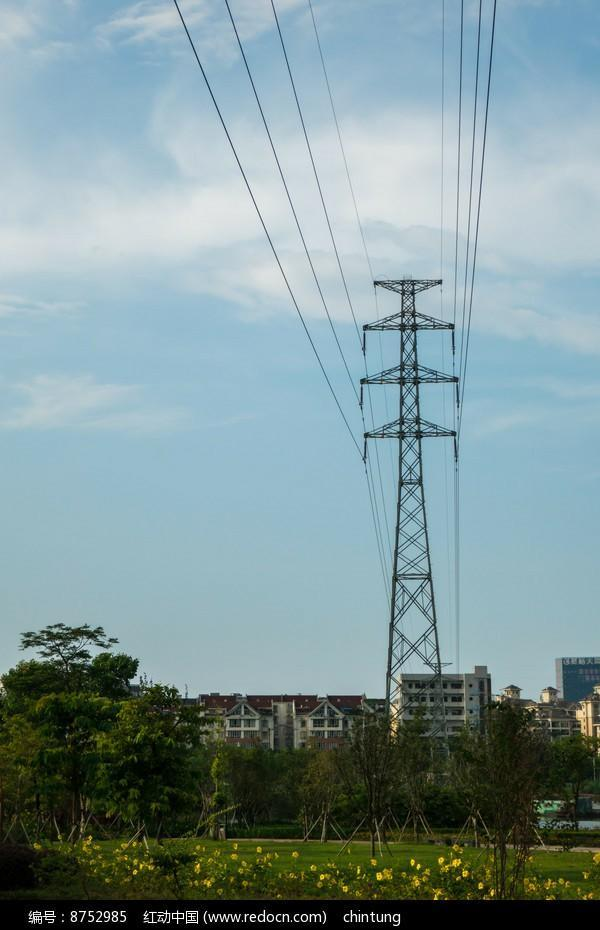power_tower: (342, 270, 480, 759)
